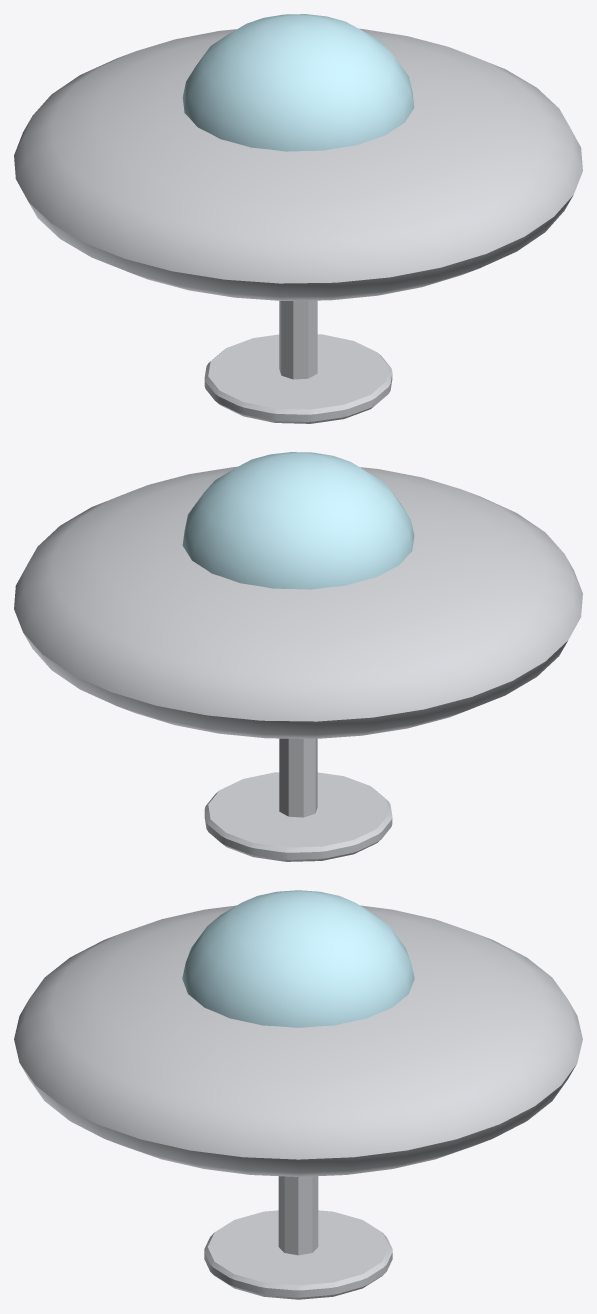
Rendered from UFO.fbx.
3 views of the same model, one above another, from view 1: azimuth 30°, elevation 25°; view 2: azimuth 150°, elevation 25°; view 3: azimuth 270°, elevation 25° (orthographic).
Parts seen in each view (by area): view 1: Body.011, Glow.001; view 2: Body.011, Glow.001; view 3: Body.011, Glow.001.
Part boxes in pixels (bbox=[...]): Body.011: bbox=[14, 28, 582, 423]; Glow.001: bbox=[182, 14, 414, 151]; Body.011: bbox=[14, 466, 582, 861]; Glow.001: bbox=[182, 452, 414, 589]; Body.011: bbox=[14, 905, 582, 1299]; Glow.001: bbox=[182, 890, 414, 1027].
Bounding box in the file's own units: 1.44 × 1 × 1.44.
